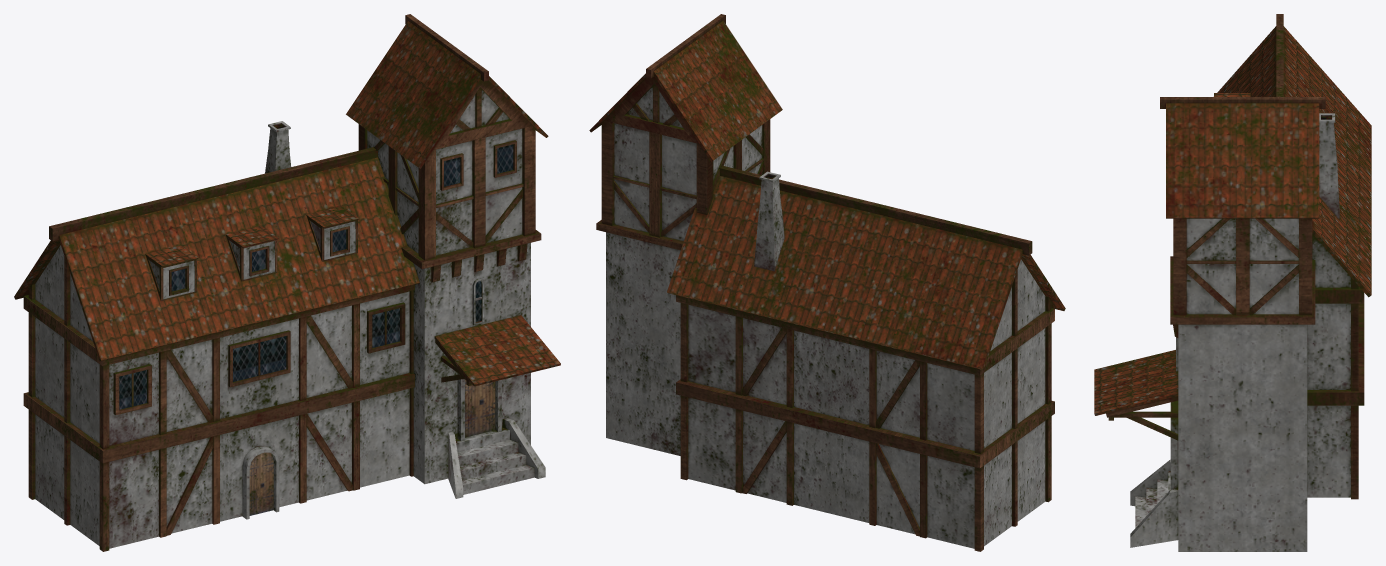
File: House3.glb
3 renders of one model, left to right at view 1: azimuth 30°, elevation 25°; view 2: azimuth 150°, elevation 25°; view 3: azimuth 270°, elevation 25°, orthographic. The views are drawn at different scales.
Visible parts, largest first — view 1: House4_House4_M_0; view 2: House4_House4_M_0; view 3: House4_House4_M_0.
Boxes of the visible parts, x1,y1,x2,y2 form: House4_House4_M_0: (14,14,560,551); House4_House4_M_0: (589,14,1065,551); House4_House4_M_0: (1094,14,1371,551).
Size of the model in its own units: 14.4 by 12.58 by 7.41.
1 material, 1 textured.
